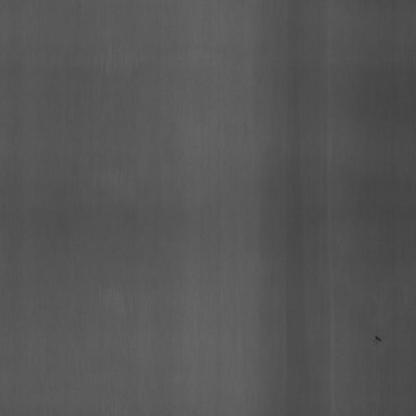inclusion: (370, 328, 389, 352)
